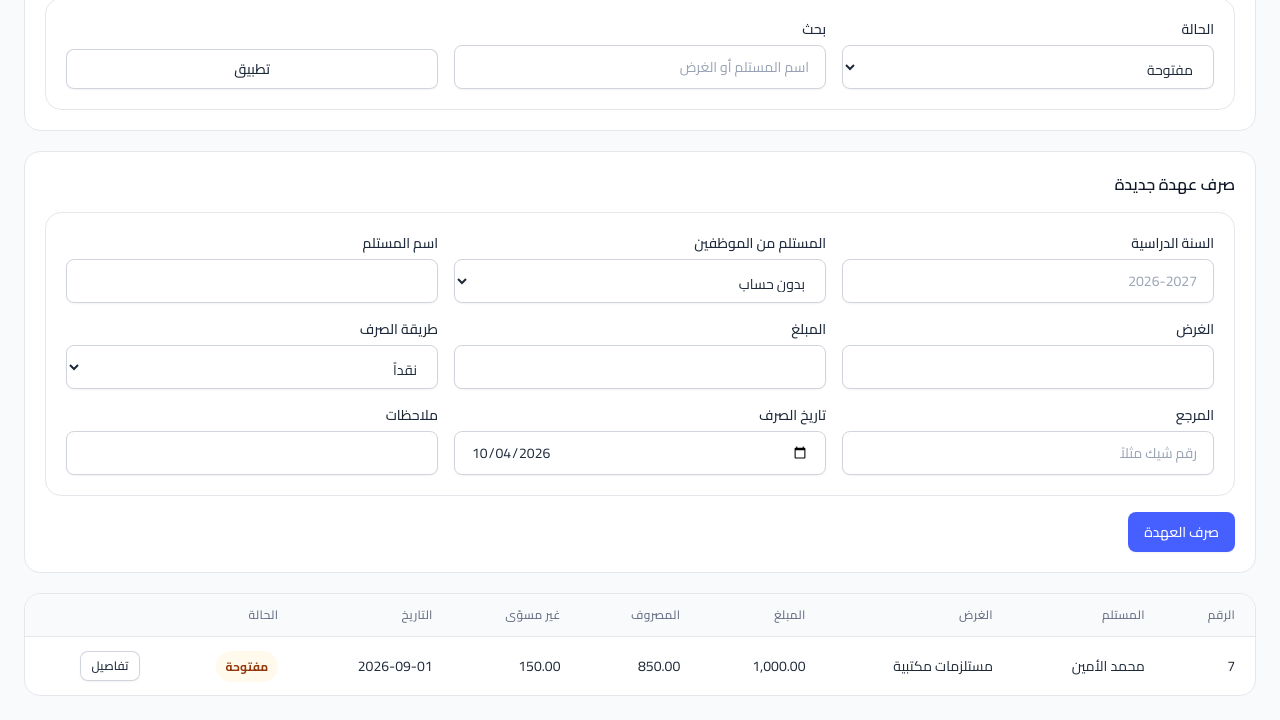
Scenario: CashAdvances › offers reopen instead of closing once the advance is settled
(page scrolled)
Click the button "تفاصيل". click: (110, 666)
box: [80,651,140,681]
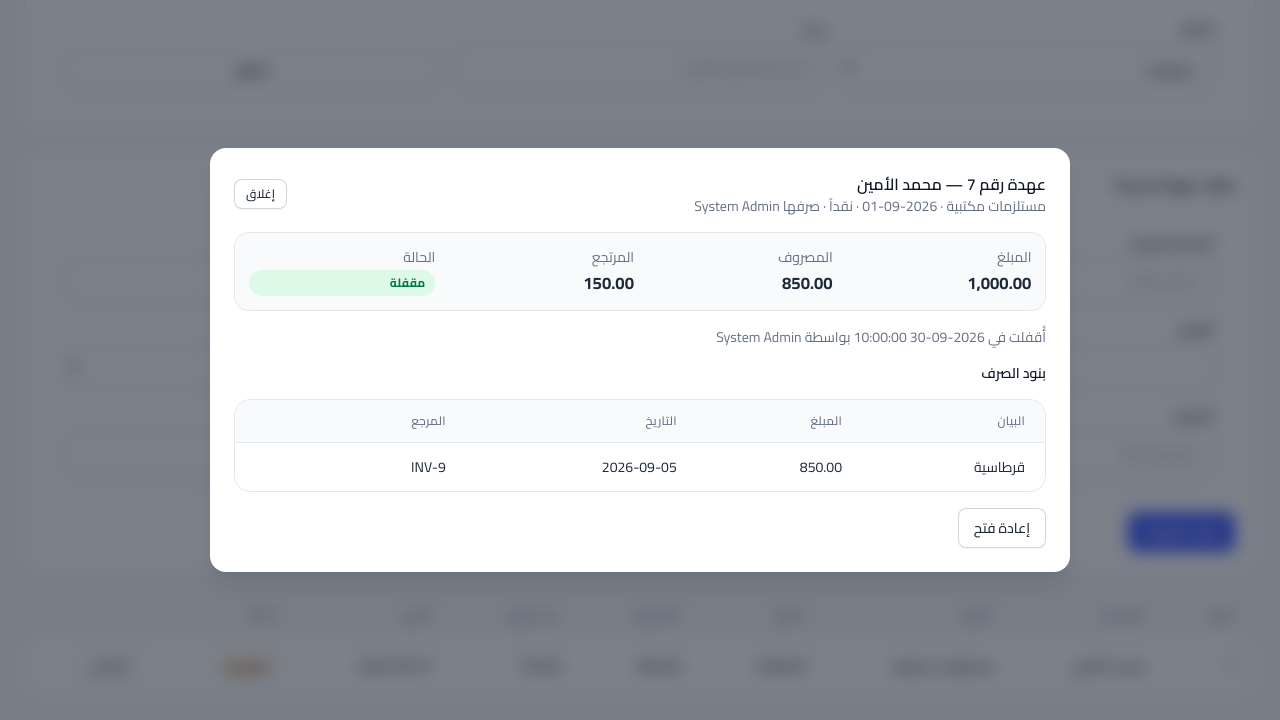
Now the button "إعادة فتح" is shown, box [958,508,1046,548]
